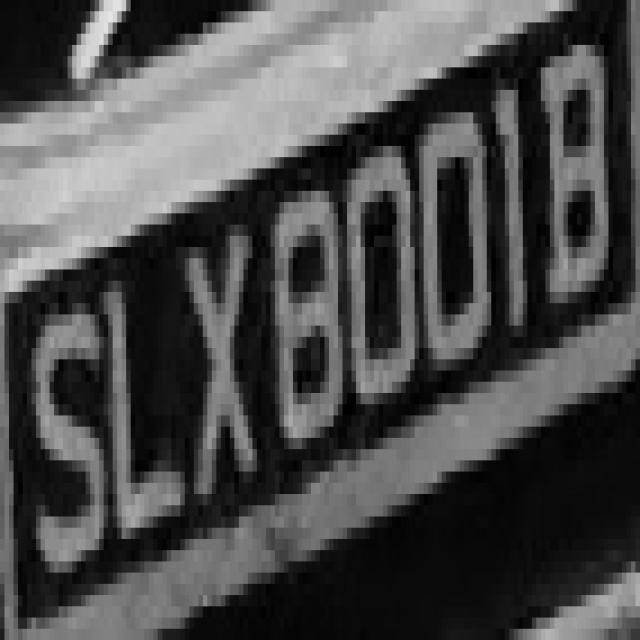0: (410, 68, 491, 416), (338, 146, 415, 393)
1: (478, 56, 532, 359)
8: (257, 157, 347, 460)
B: (532, 11, 626, 337)
L: (99, 236, 189, 550)
S: (22, 281, 112, 595)
X: (167, 202, 275, 528)
